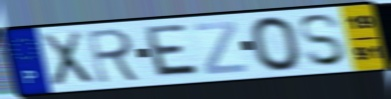E: (144, 22, 203, 79)
O: (247, 14, 305, 74)
R: (85, 27, 144, 86)
S: (296, 12, 350, 69)
X: (38, 29, 96, 89)
Z: (192, 19, 248, 76)
